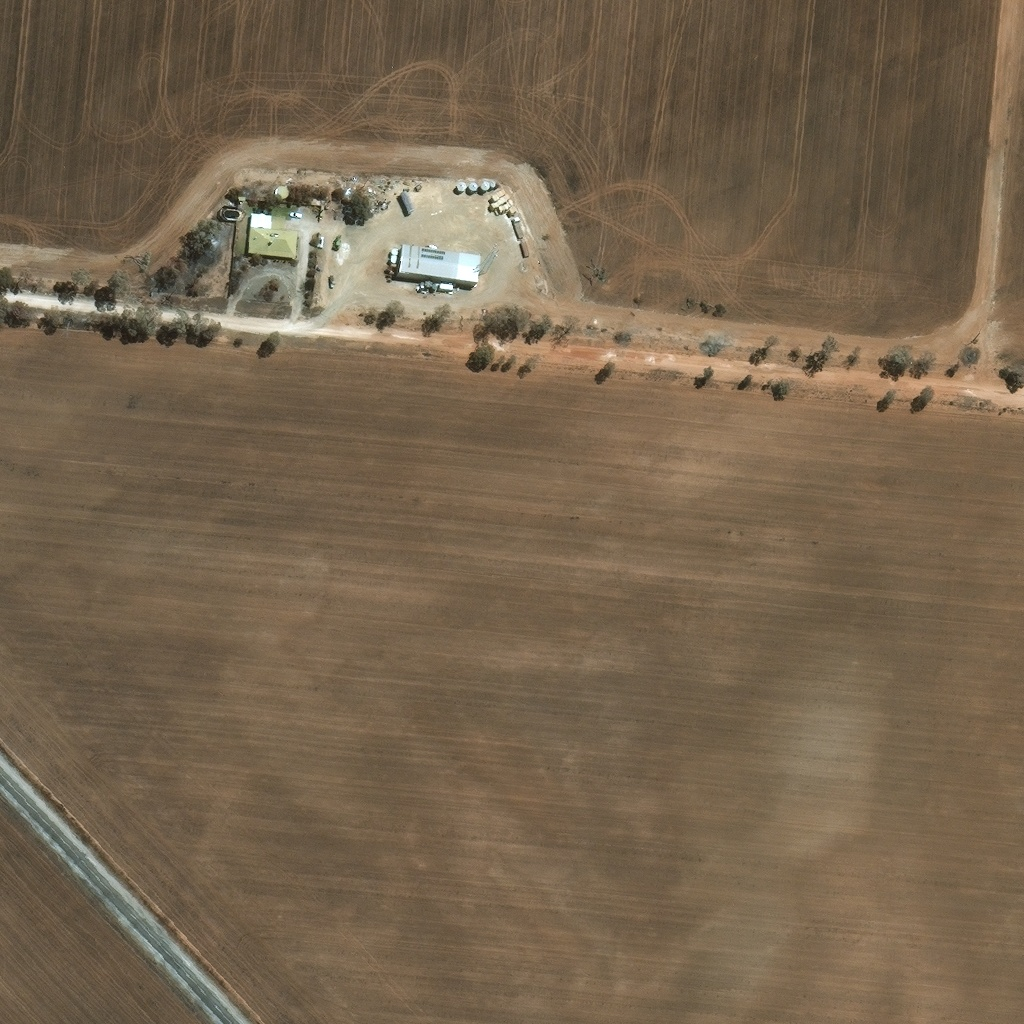0 no-damage: (397, 246, 480, 283), (246, 211, 298, 257), (275, 184, 290, 196), (480, 180, 496, 189), (467, 180, 479, 191), (455, 180, 465, 191), (389, 246, 399, 256), (388, 254, 398, 263)
